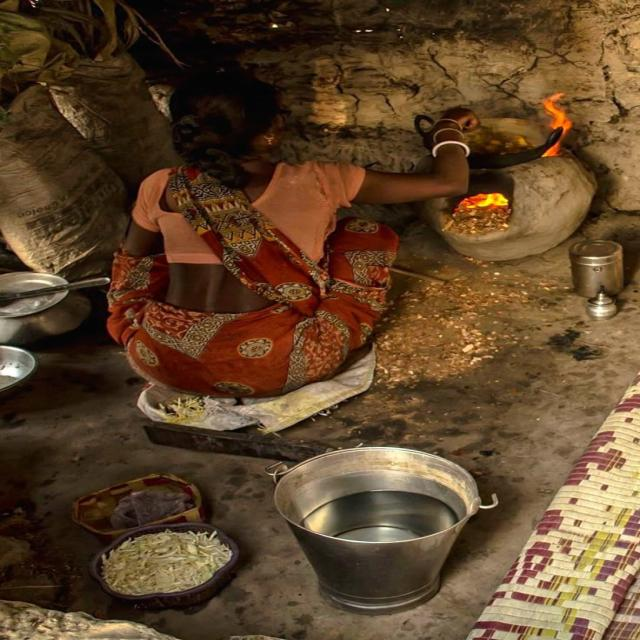fire: (542, 92, 572, 156)
